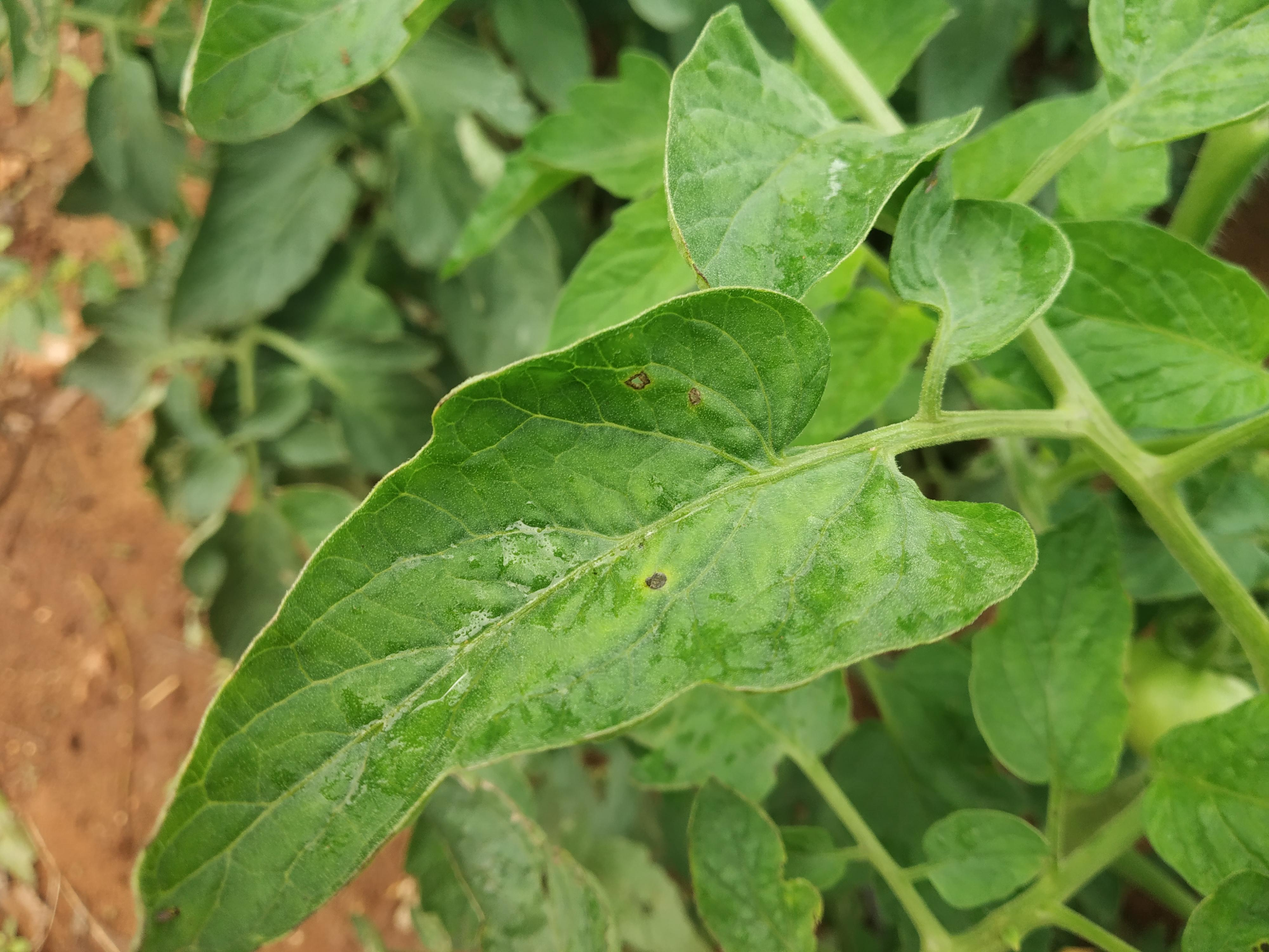Early Blight: (102, 263, 1056, 952)
